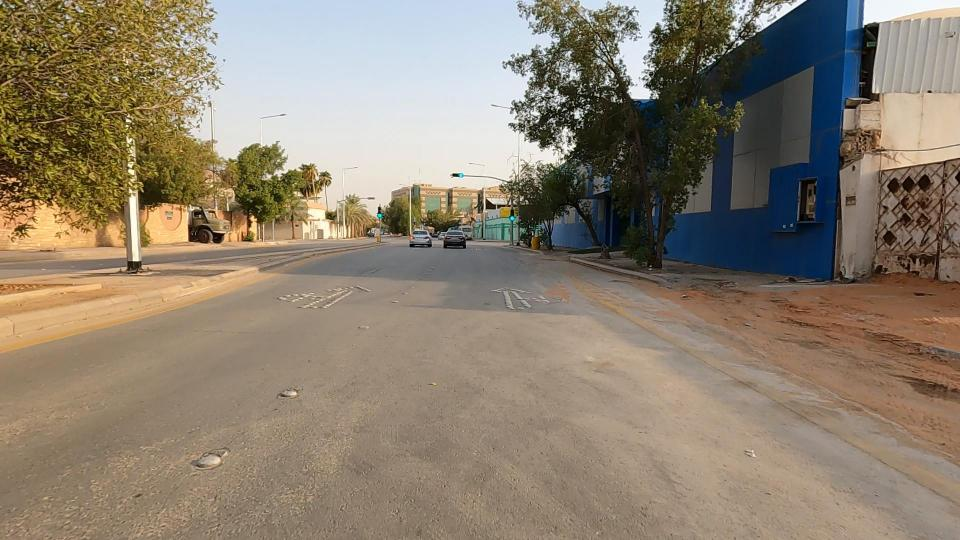SAND_ON_ROAD: (640, 233, 916, 421), (740, 278, 960, 475), (837, 238, 960, 408)
